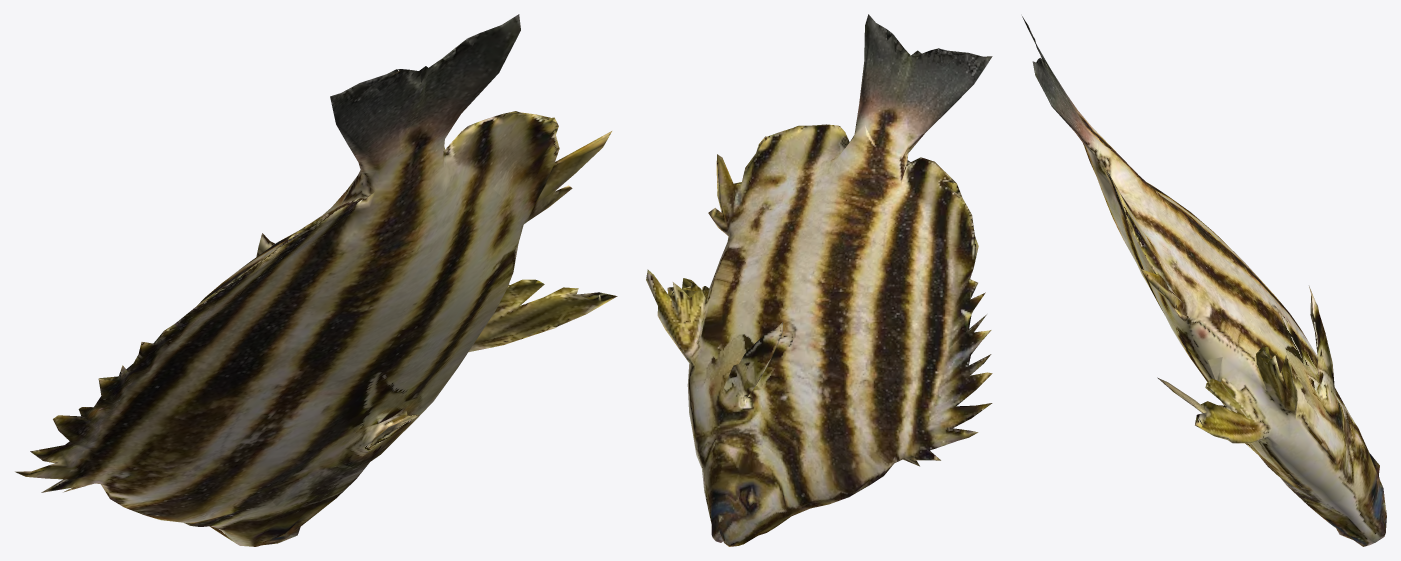
Rendered from stripey.glb.
3 views of the same model, side by side, from view 1: azimuth 30°, elevation 25°; view 2: azimuth 150°, elevation 25°; view 3: azimuth 270°, elevation 25° (orthographic). The views are drawn at different scales.
Visible parts, largest first — view 1: stripey_near; view 2: stripey_near; view 3: stripey_near.
Boxes of the visible parts, bbox=[...] form: stripey_near: bbox=[15, 14, 617, 546]; stripey_near: bbox=[646, 14, 992, 546]; stripey_near: bbox=[1022, 16, 1386, 546].
Size of the model in its own units: 0.0917 by 0.1089 by 0.0745.
Materials: 1 (1 with a texture image).
